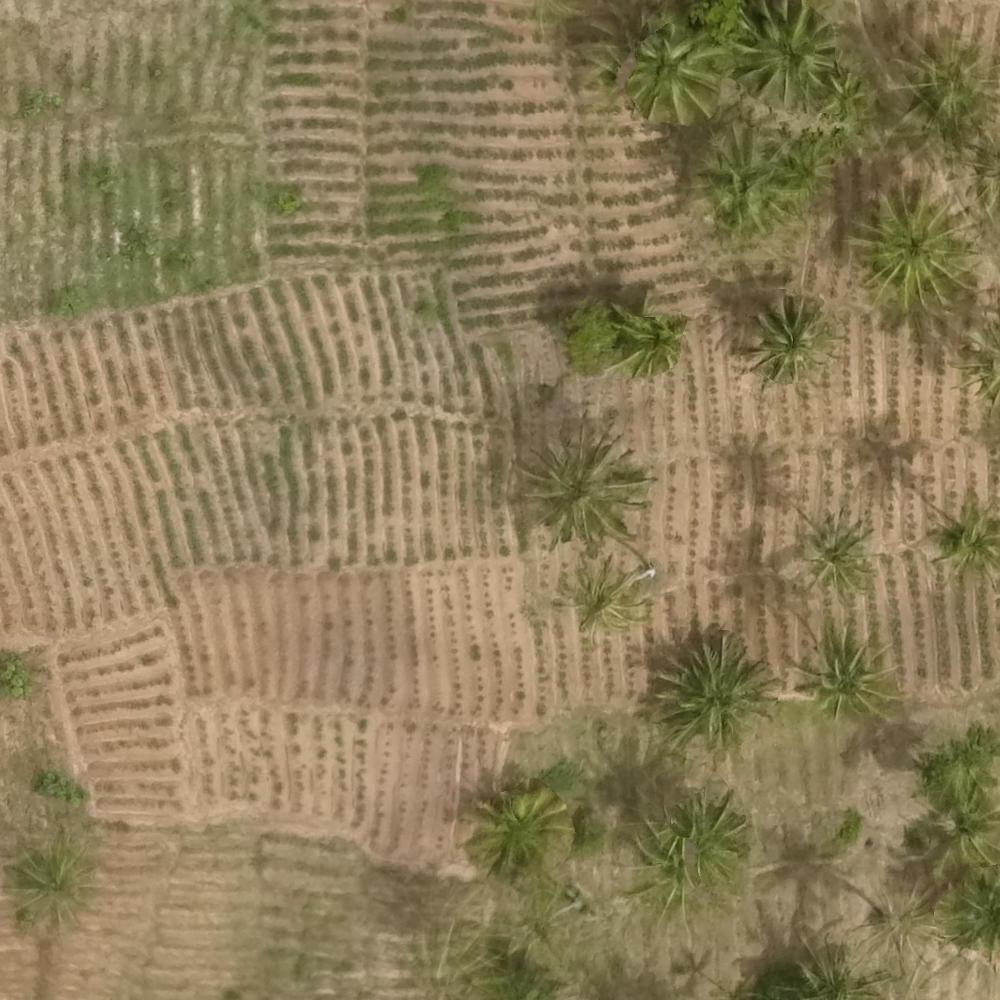Palm: (524, 434, 643, 543), (654, 640, 767, 749), (858, 194, 965, 309), (732, 1, 841, 110), (794, 623, 899, 724), (7, 834, 107, 929), (632, 33, 721, 126), (471, 784, 561, 873), (791, 510, 877, 592), (745, 295, 827, 380), (921, 499, 1000, 582), (559, 559, 645, 635), (609, 304, 687, 379)
